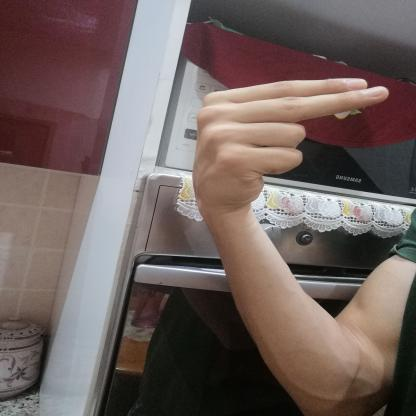AYN: (181, 66, 401, 225)
